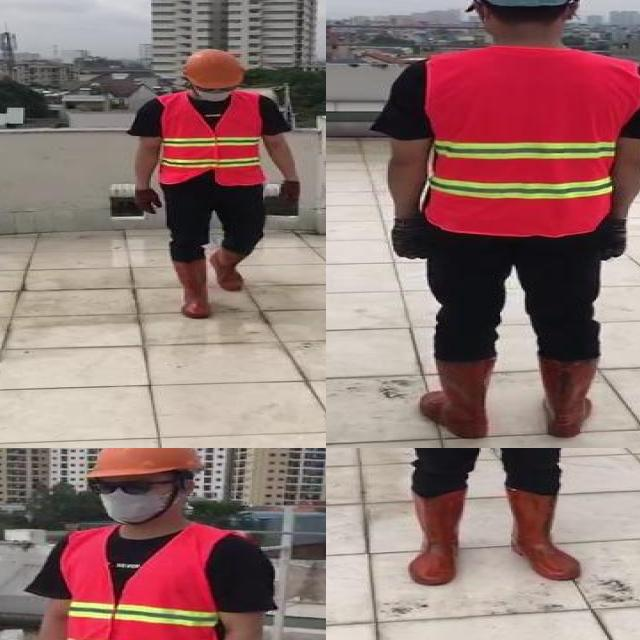boots: (506, 488, 578, 579), (416, 358, 494, 440), (408, 493, 465, 590), (536, 355, 600, 439), (168, 260, 210, 317), (206, 246, 247, 290)
face_mask: (88, 474, 170, 524)
glasses: (78, 474, 168, 498)
hand_glove: (388, 214, 427, 261), (603, 219, 630, 259), (134, 189, 164, 215), (279, 178, 304, 201)
head_helmet: (82, 448, 197, 484), (178, 48, 248, 90)
person: (374, 0, 640, 446), (125, 48, 310, 320), (25, 448, 279, 640), (335, 448, 640, 591)
vest: (425, 47, 640, 236), (52, 524, 225, 640), (156, 92, 265, 185)
